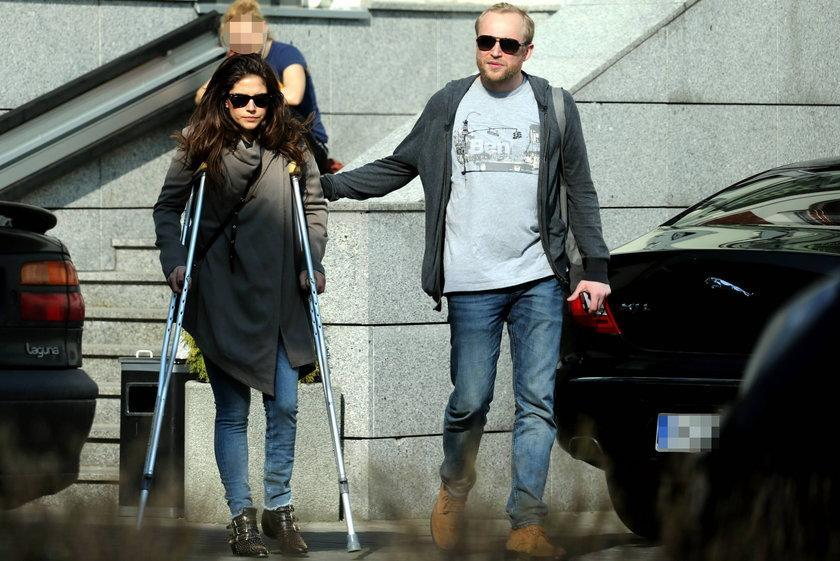crutches: (134, 54, 362, 558)
